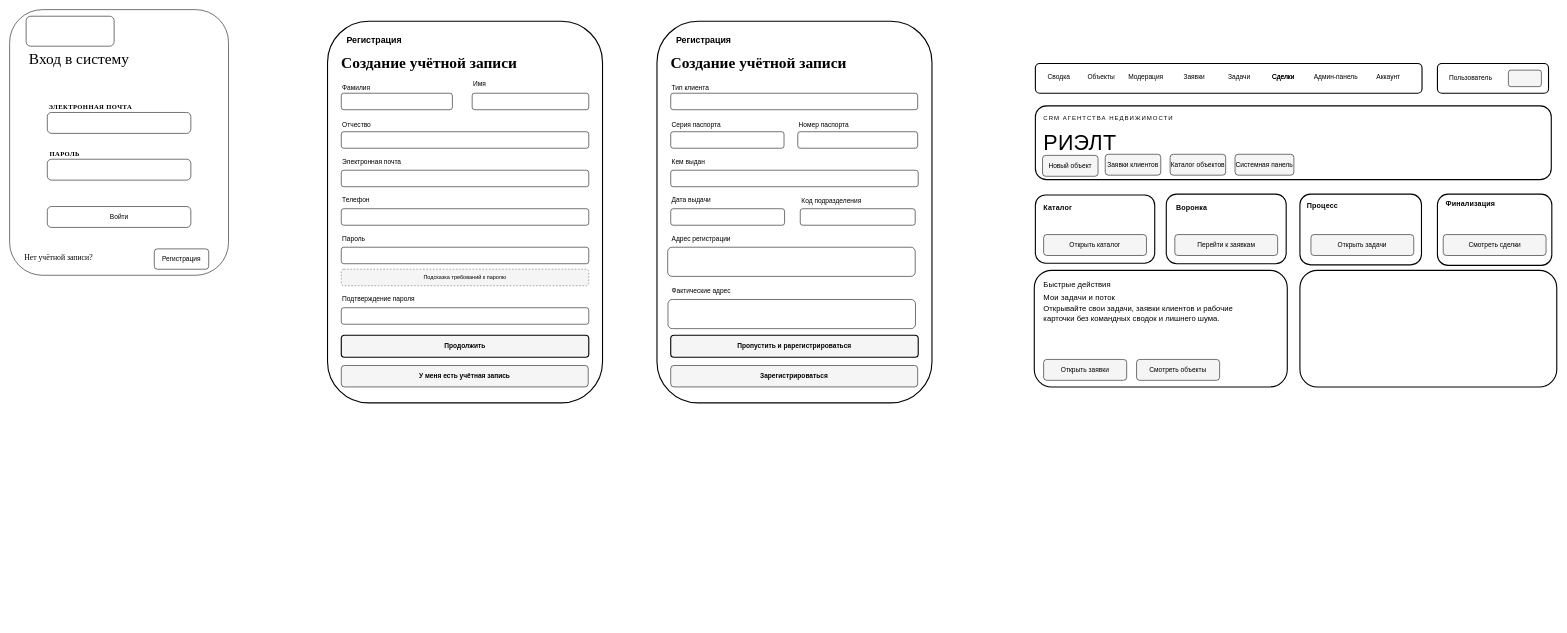
Some shapes in this 1567 by 633 pixel diagram are drawn without their labels. The box of each missing label's shape, as (x1, y1, x2, y2) in pixels:
Выход: (1508, 70, 1541, 87)
Логотип / Название CRM: (26, 16, 114, 46)
Система и данные Подсказки по работе: (1299, 270, 1557, 387)
